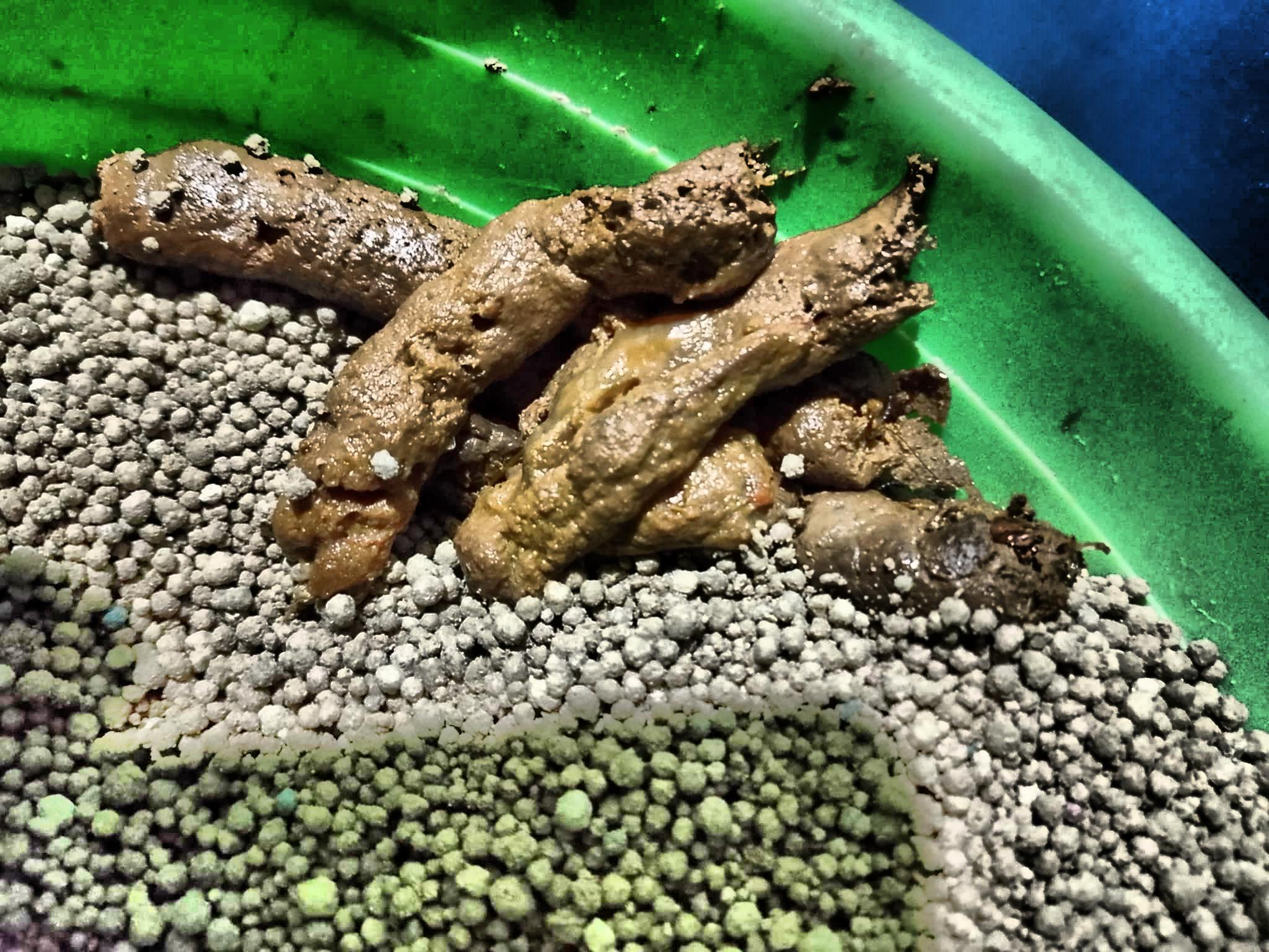poop: (281, 143, 775, 596), (455, 157, 934, 599), (91, 140, 474, 322), (794, 490, 1083, 622), (595, 428, 779, 556), (769, 395, 970, 494)
